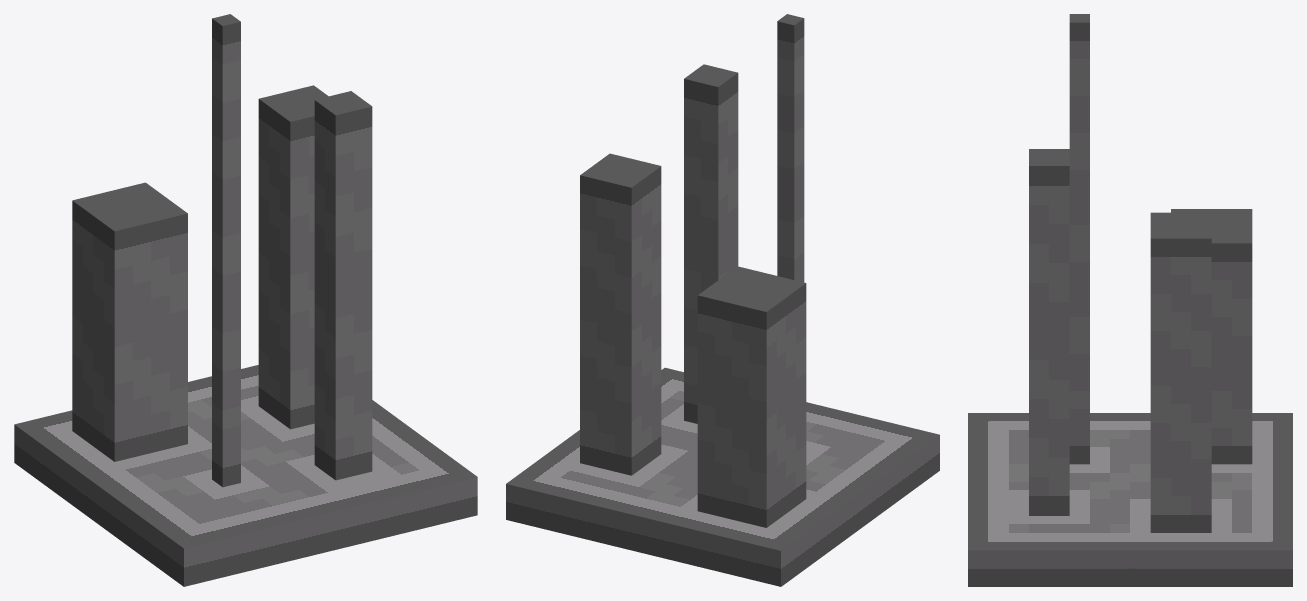
The model's file is submarine_mast.obj.
The picture shows the model from 3 angles, left to right: view 1: azimuth 30°, elevation 25°; view 2: azimuth 150°, elevation 25°; view 3: azimuth 270°, elevation 25°; orthographic projection. The views are drawn at different scales.
Parts seen in each view (by area): view 1: cube, cube1, cube3, cube2, cube4; view 2: cube, cube1, cube2, cube3, cube4; view 3: cube, cube2, cube3, cube1, cube4.
Boxes of the visible parts, x1,y1,x2,y2 form: cube: (14,365,477,586); cube1: (72,182,187,461); cube3: (314,91,372,480); cube2: (258,85,328,429); cube4: (212,14,240,487); cube: (506,367,939,586); cube1: (697,266,806,527); cube2: (580,153,661,475); cube3: (684,64,738,423); cube4: (777,14,804,282); cube: (968,413,1292,586); cube2: (1150,212,1211,532); cube3: (1029,149,1069,515); cube1: (1171,209,1252,464); cube4: (1069,14,1089,464).
Bounding box in the file's own units: 1 × 1.62 × 1.
